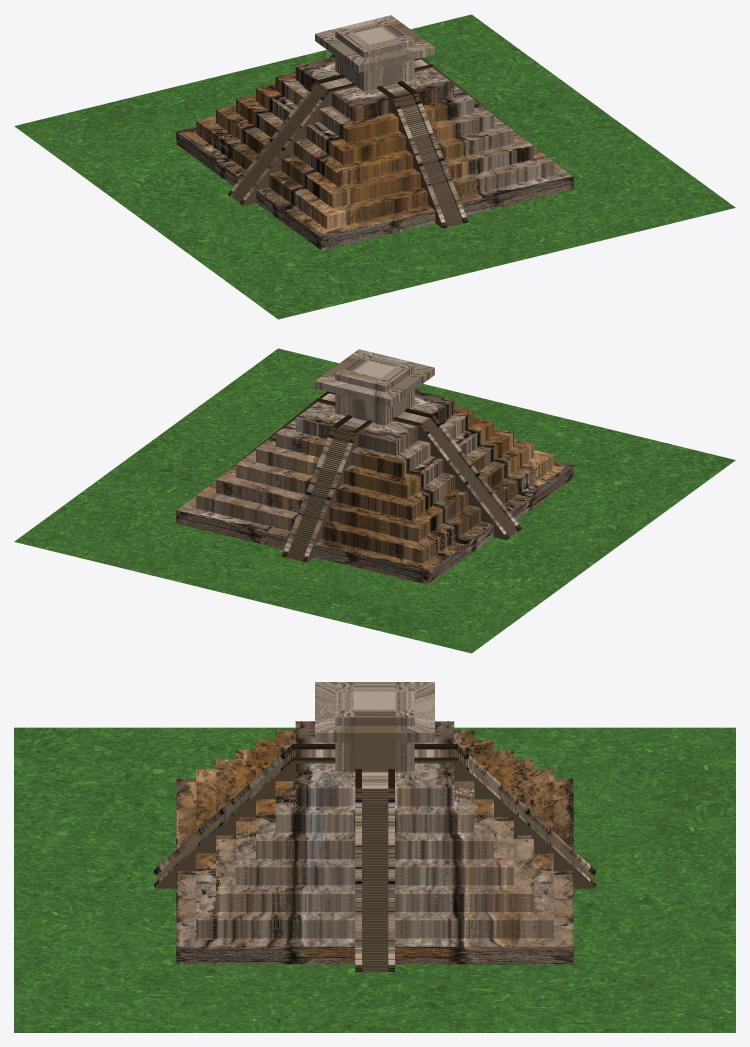
File: Piramide.obj
The picture shows the model from 3 angles, top to bottom: view 1: azimuth 30°, elevation 25°; view 2: azimuth 150°, elevation 25°; view 3: azimuth 270°, elevation 25°; orthographic projection. The views are drawn at different scales.
Parts seen in each view (by area): view 1: Plane, Piramide, EscalerasDer, Escaleras, EscalerasIzq, EscalerasLadoContrario; view 2: Plane, Piramide, EscalerasDer, Escaleras, EscalerasIzq, EscalerasLadoContrario; view 3: Plane, Piramide, EscalerasIzq, EscalerasLadoContrario, EscalerasDer, Escaleras.
Part boxes in pixels (x1,y1,x2,y2): Plane: [14, 14, 735, 319]; Piramide: [176, 15, 573, 250]; EscalerasDer: [227, 57, 521, 205]; Escaleras: [397, 94, 463, 226]; EscalerasIzq: [329, 54, 468, 228]; EscalerasLadoContrario: [231, 59, 428, 202]; Plane: [14, 348, 735, 653]; Piramide: [176, 349, 573, 584]; EscalerasDer: [228, 391, 521, 540]; Escaleras: [286, 428, 352, 560]; EscalerasIzq: [281, 388, 420, 562]; EscalerasLadoContrario: [321, 393, 517, 536]; Plane: [14, 727, 735, 1032]; Piramide: [162, 682, 587, 964]; EscalerasIzq: [154, 744, 595, 888]; EscalerasLadoContrario: [362, 788, 388, 972]; EscalerasDer: [355, 769, 394, 971]; Escaleras: [157, 749, 592, 880].
Size of the model in its own units: 36.36 by 10.02 by 36.36.
